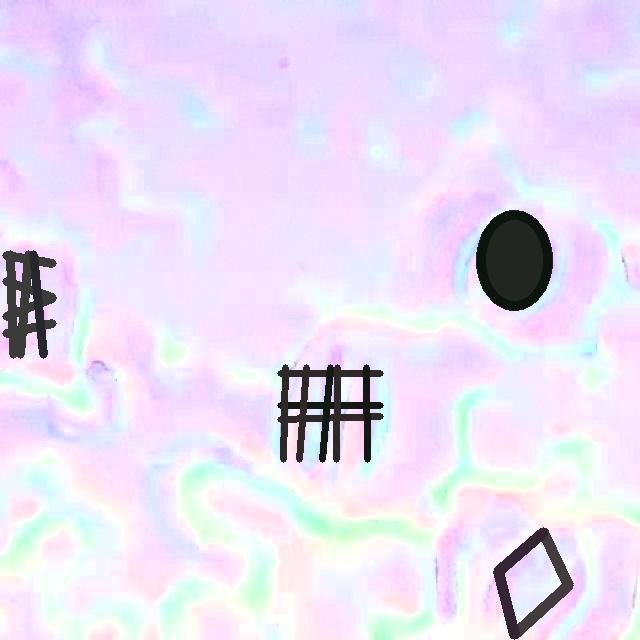close: (493, 528, 572, 638), (476, 211, 552, 310)
open: (277, 364, 383, 462), (3, 250, 55, 358)
